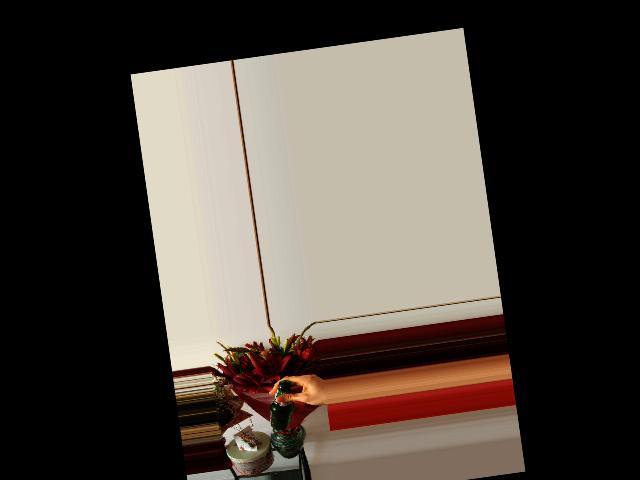beer: (264, 379, 297, 431)
